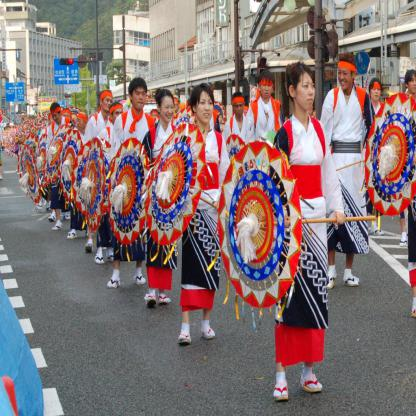face: (296, 74, 316, 111), (198, 94, 214, 125), (161, 98, 175, 123), (339, 68, 352, 92), (134, 88, 147, 111), (261, 84, 273, 100), (372, 84, 382, 102), (114, 108, 124, 125), (234, 103, 245, 118), (104, 96, 113, 112), (409, 75, 416, 94), (77, 117, 84, 132), (63, 114, 71, 126), (52, 114, 60, 125), (173, 103, 178, 114), (244, 110, 249, 119), (152, 114, 158, 121), (220, 116, 223, 124), (18, 125, 21, 129), (15, 124, 16, 128)
